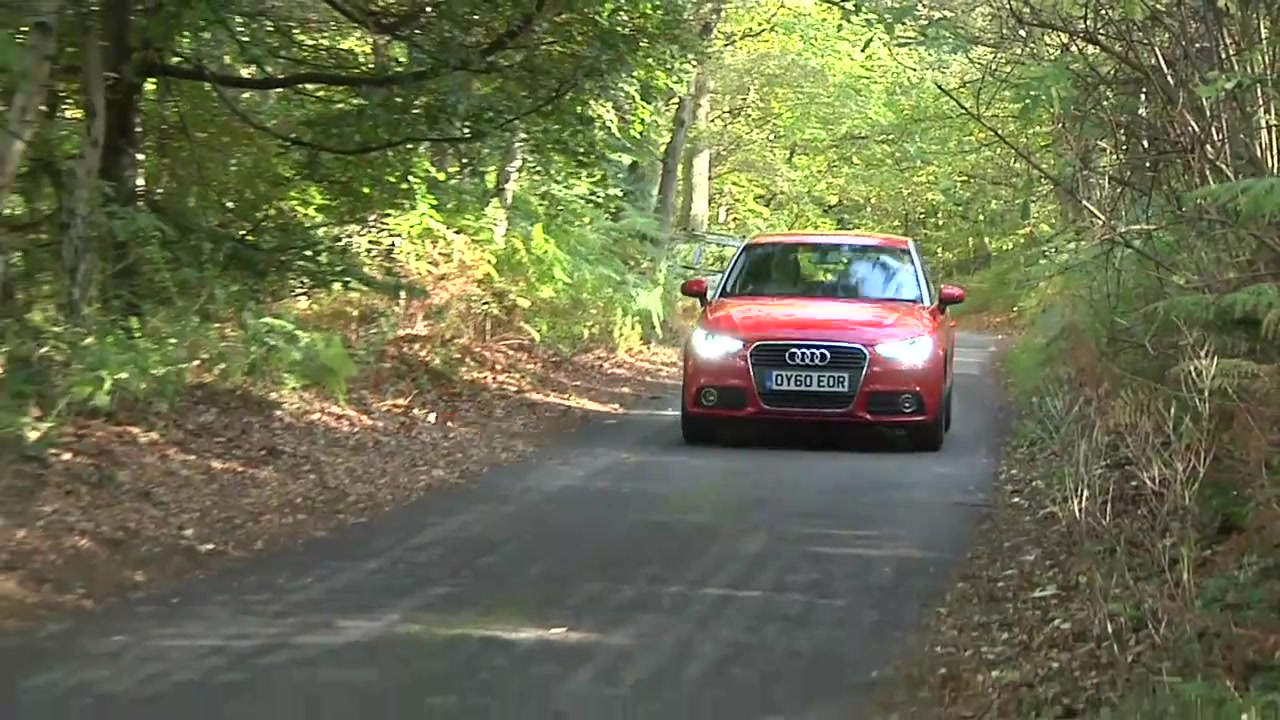car: (674, 229, 970, 456)
